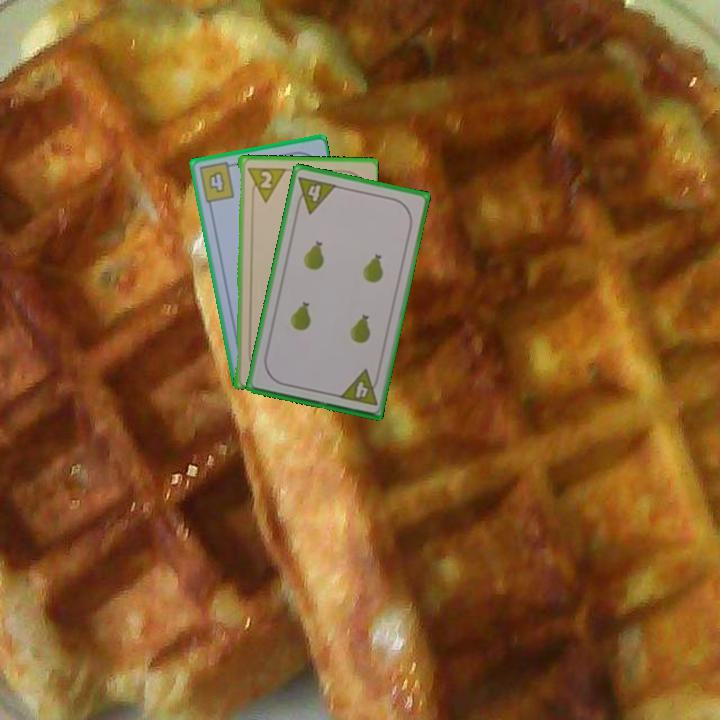2p: (243, 164, 286, 204)
4b: (195, 159, 239, 205)
4p: (292, 172, 339, 217), (336, 366, 382, 408)
